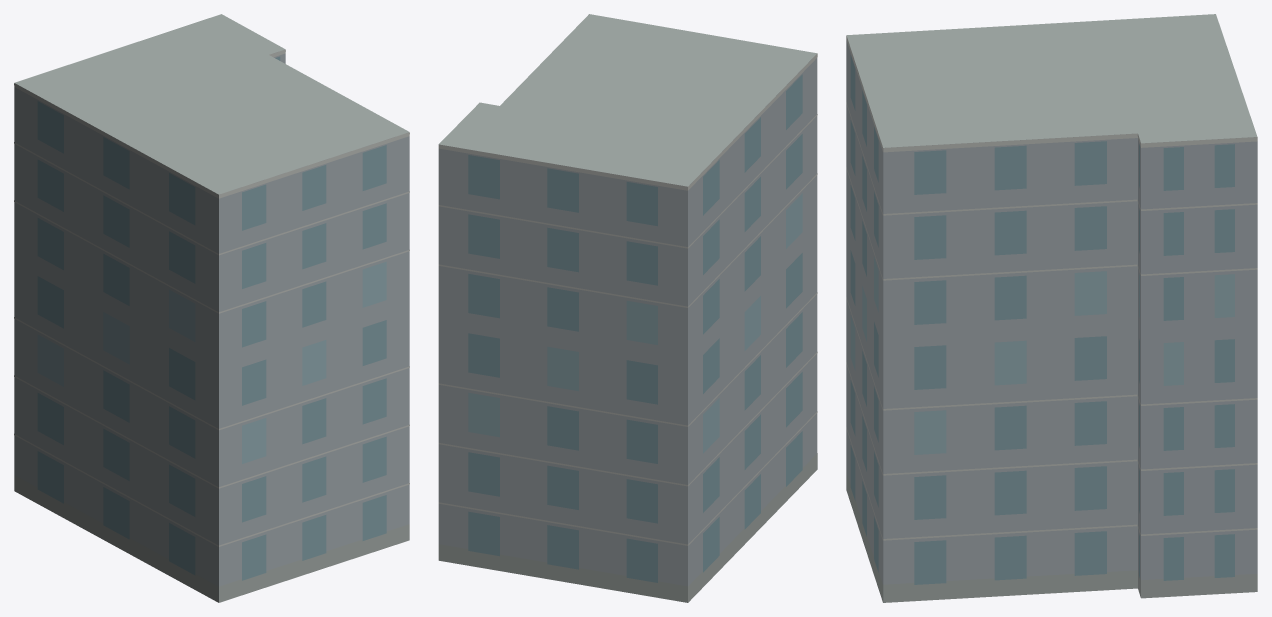
The model's file is survey-upis-32695071.glb.
3 renders of one model, left to right at view 1: azimuth 30°, elevation 25°; view 2: azimuth 150°, elevation 25°; view 3: azimuth 270°, elevation 25°, orthographic. The views are drawn at different scales.
Parts seen in each view (by area): view 1: survey-upis-32695071.tmp; view 2: survey-upis-32695071.tmp; view 3: survey-upis-32695071.tmp.
Boxes of the visible parts, left/top/right/bottom form: survey-upis-32695071.tmp: left=14, top=14, right=409, bottom=602; survey-upis-32695071.tmp: left=438, top=14, right=817, bottom=602; survey-upis-32695071.tmp: left=846, top=14, right=1257, bottom=602.
Size of the model in its own units: 15.49 by 24.5 by 20.09.
